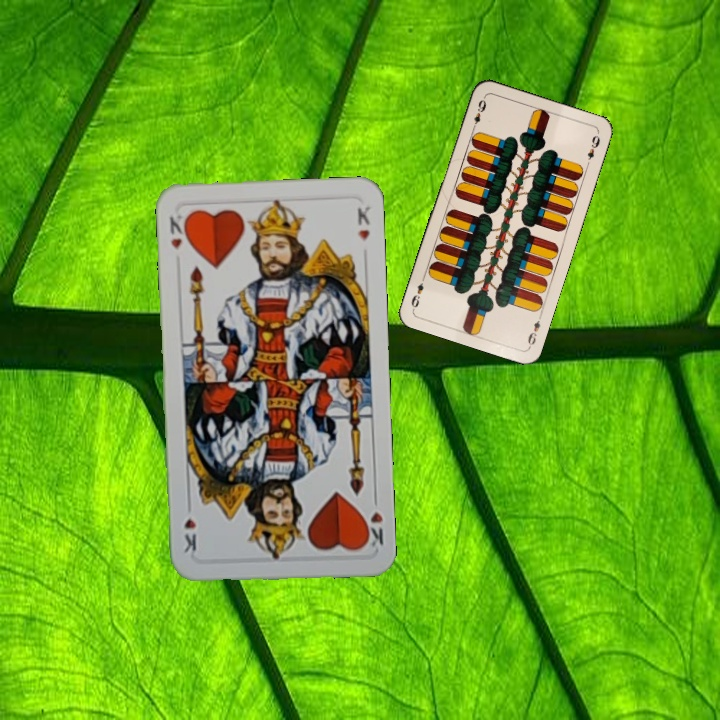E9: (468, 93, 489, 133), (523, 310, 544, 349)
HK: (359, 491, 386, 550), (166, 211, 191, 252)
